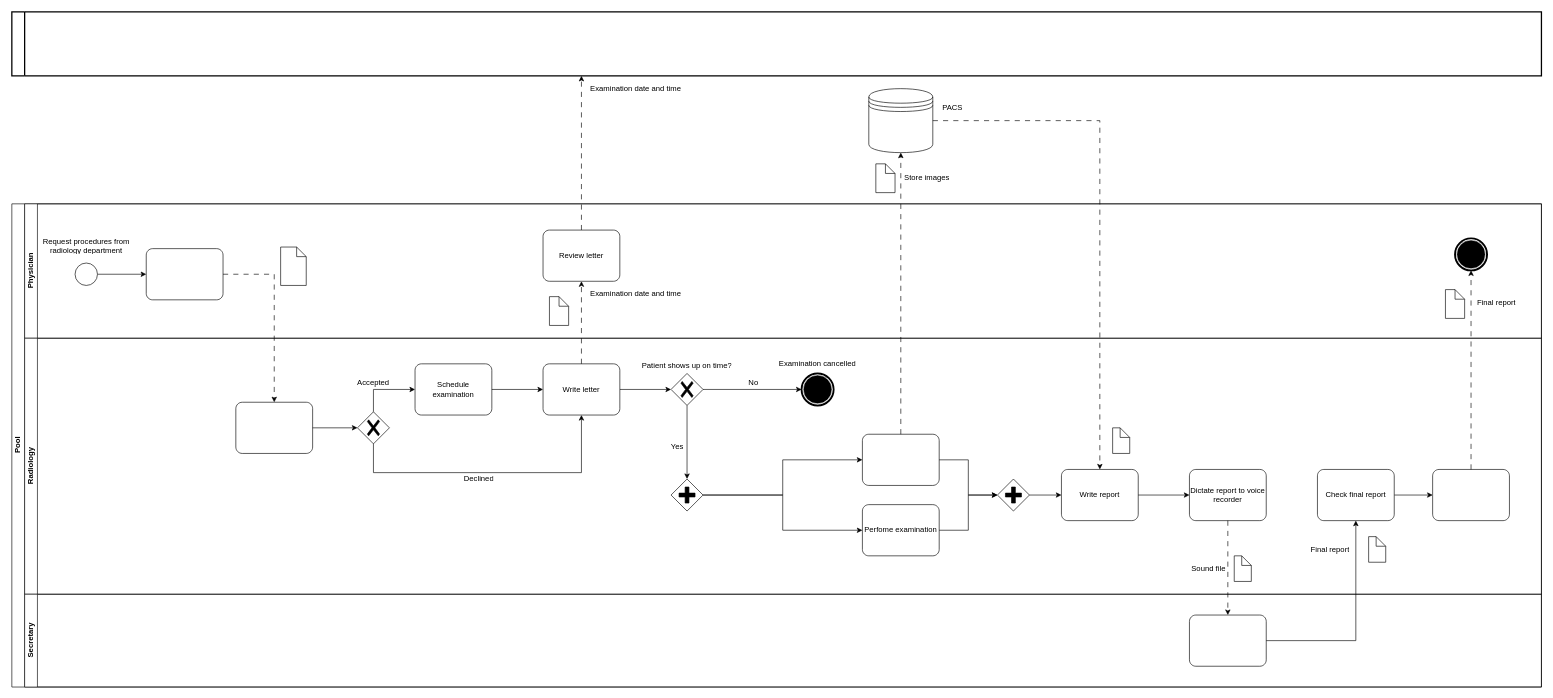
This 1553x698 diagram has some shape labels left out. The shapes that lost their labels are listed below. From the top down, each one's centre as x and y in pixels, then its label:
pixel 776 43: Patient
pixel 184 274: Fill out form
pixel 274 427: Check form
pixel 900 459: Document examination
pixel 1470 495: Sign final report
pixel 1227 640: Type report based on sound file
